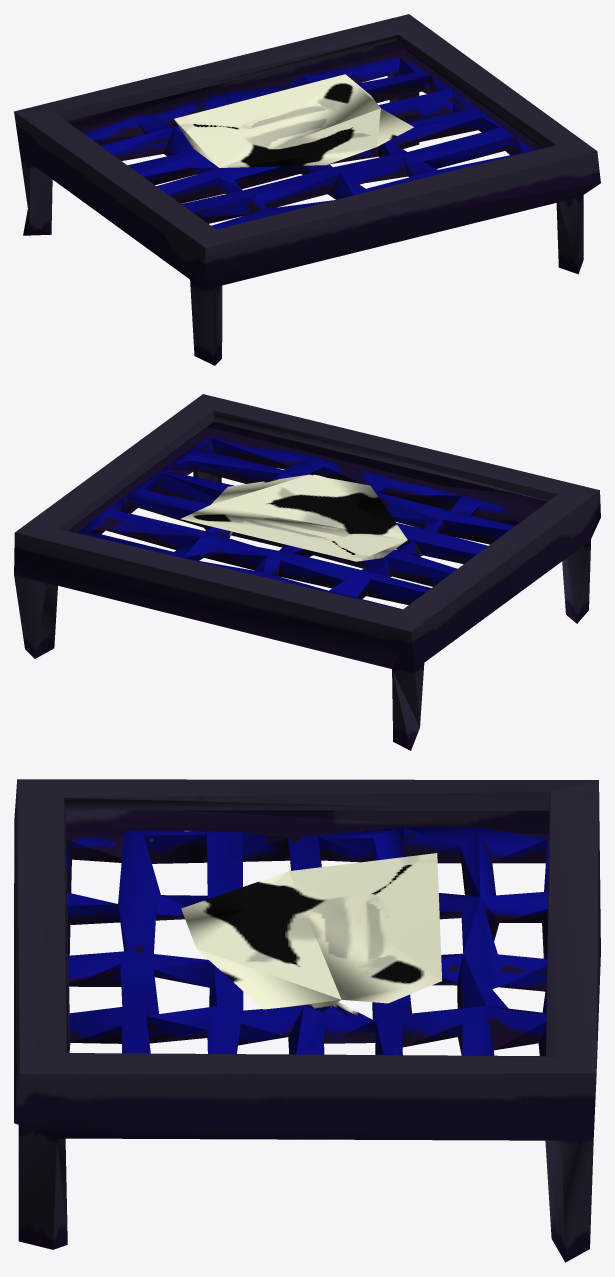
File: starry-abyss.glb
3 renders of one model, top to bottom at view 1: azimuth 30°, elevation 25°; view 2: azimuth 150°, elevation 25°; view 3: azimuth 270°, elevation 25°, orthographic. The views are drawn at different scales.
Parts seen in each view (by area): view 1: geometry_0.001; view 2: geometry_0.001; view 3: geometry_0.001.
Part boxes in pixels (x1,y1,x2,y2): geometry_0.001: (14,14,600,365); geometry_0.001: (14,394,600,750); geometry_0.001: (14,779,600,1262).
Size of the model in its own units: 0.9962 by 0.3159 by 0.8282.
1 material, 1 textured.
